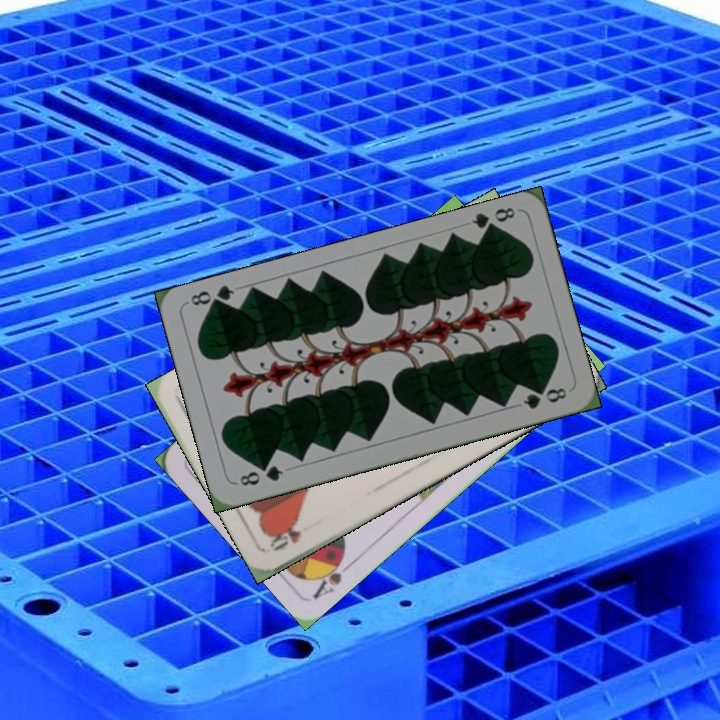G8: (467, 203, 518, 237), (235, 461, 286, 489)
HO: (265, 524, 304, 554)
SA: (308, 549, 357, 602)
